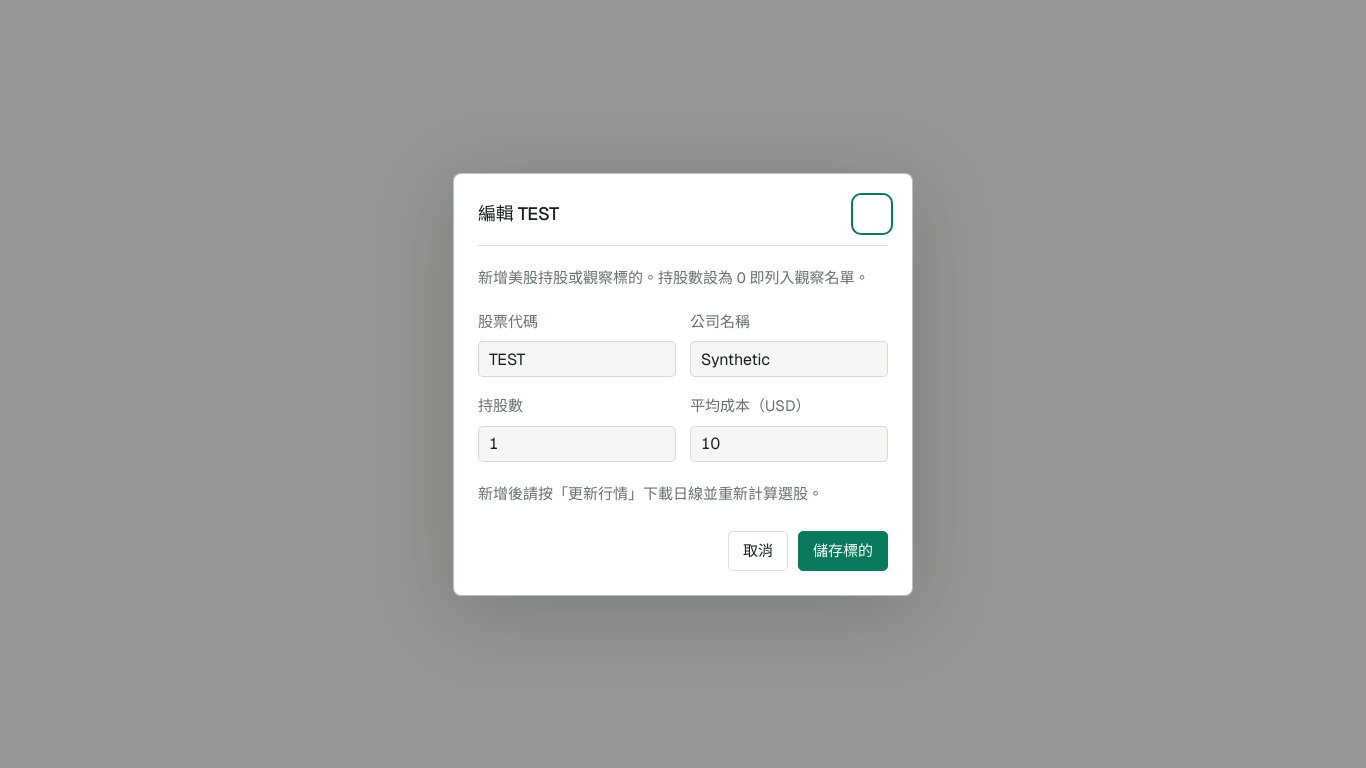
Test: sends the loaded version and preserves draft after a conflicting edit
Replace the text in the number field labelled "持股數" with "3" at {"x": 577, "y": 444}, box x1=478 y1=426 x2=676 y2=462
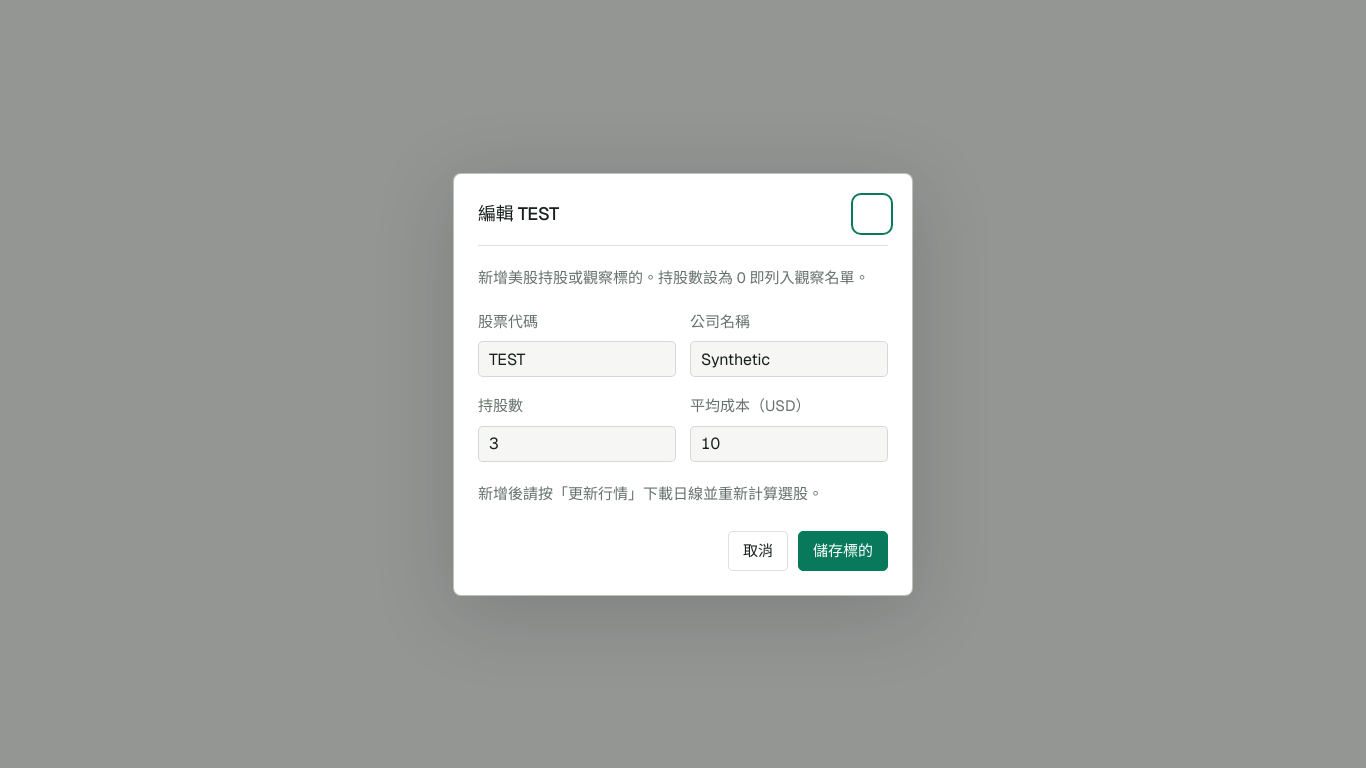
Click the button "儲存標的".
click(843, 550)  # box x1=798 y1=530 x2=888 y2=570
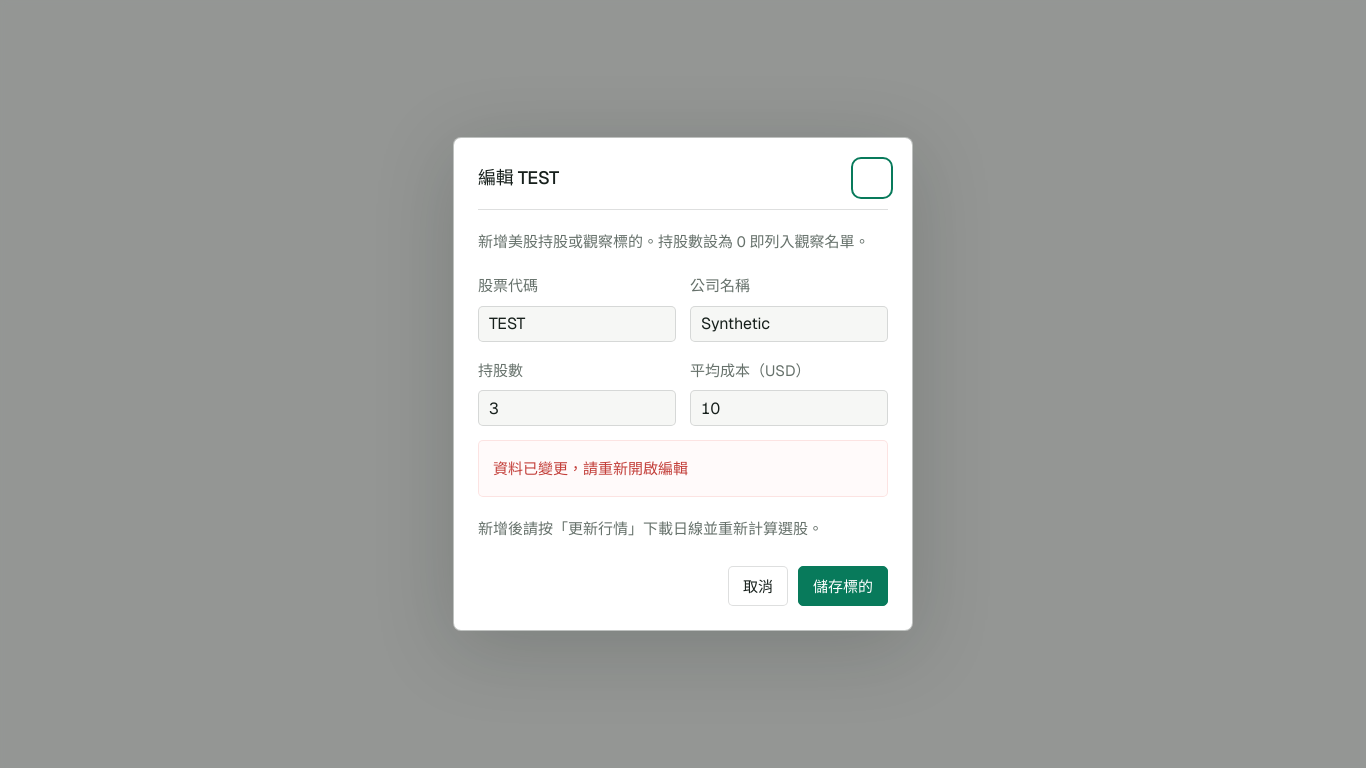
expect the message shows "資料已變更": met, box x1=493 y1=459 x2=688 y2=478
